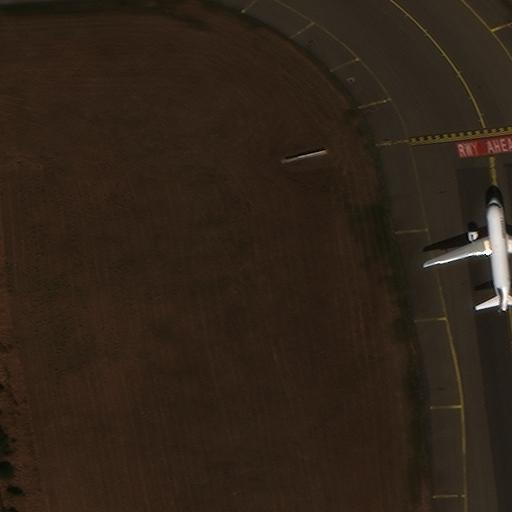Medium Civil Transport: (423, 197, 511, 311)
